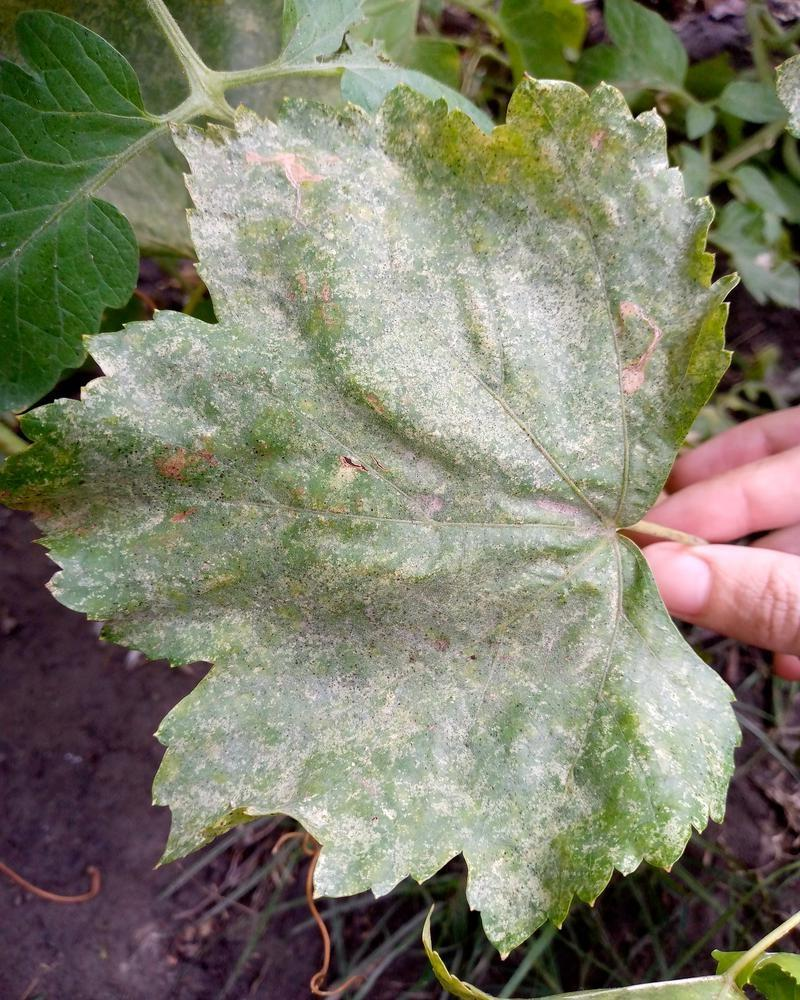Powdery-Mildew: (539, 101, 629, 520), (391, 226, 569, 391), (240, 120, 417, 271), (628, 642, 748, 822), (618, 154, 697, 233), (372, 509, 450, 588), (155, 423, 242, 486), (245, 130, 308, 193), (29, 479, 92, 542), (650, 666, 713, 729), (325, 445, 386, 500)
